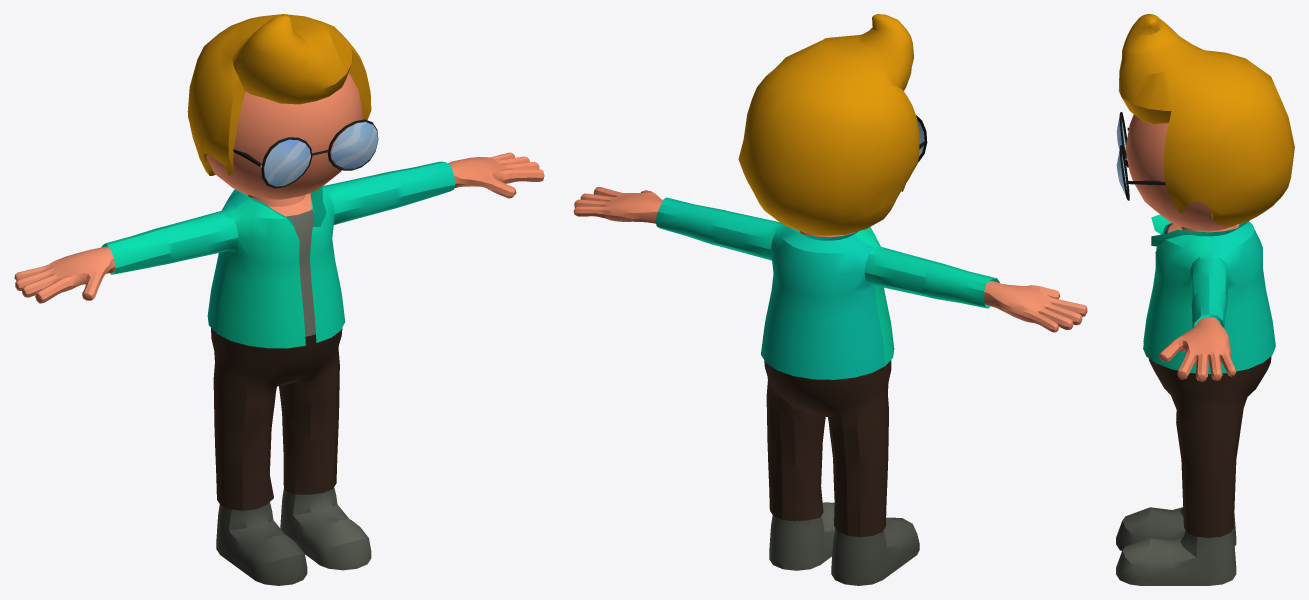
The model's file is SM_Customer.fbx.
The picture shows the model from 3 angles, left to right: view 1: azimuth 30°, elevation 25°; view 2: azimuth 150°, elevation 25°; view 3: azimuth 270°, elevation 25°; orthographic projection. The views are drawn at different scales.
Parts seen in each view (by area): view 1: Customer; view 2: Customer; view 3: Customer.
Boxes of the visible parts, x1,y1,x2,y2 form: Customer: [14, 14, 544, 585]; Customer: [573, 14, 1087, 585]; Customer: [1116, 14, 1294, 585].
Size of the model in its own units: 383 by 392 by 120.
